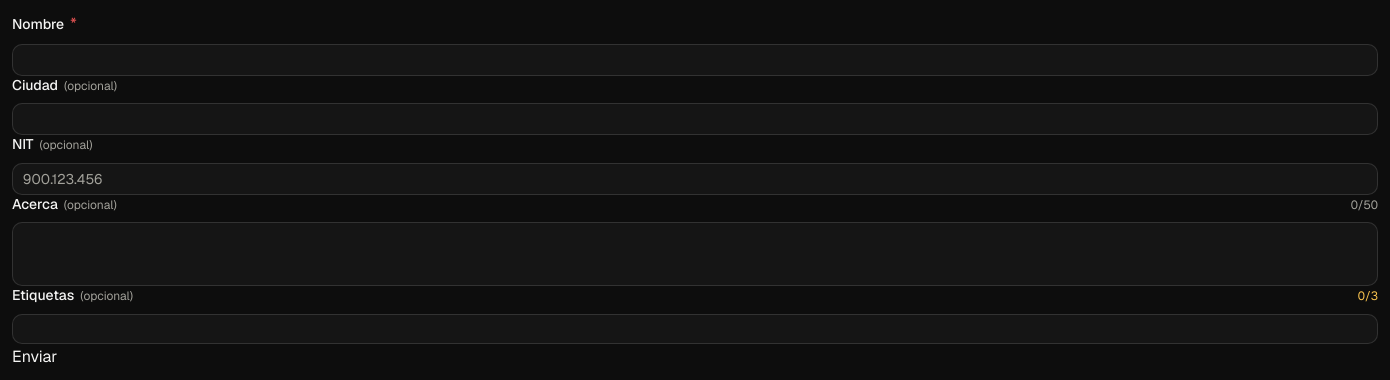
Test: NitField › ignores letters and groups the digits with dots
Type "abc900x123456" into the field labelled "NIT".
click(695, 178); type("abc900x123456")  # box [13,162,1377,194]
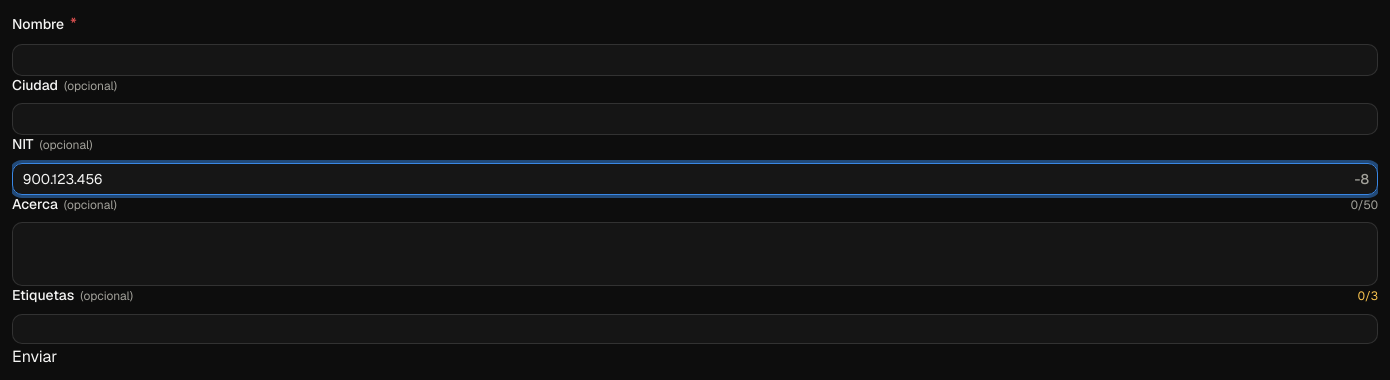
Result: the field labelled "NIT" holds "900.123.456" at [13,162,1355,194]
